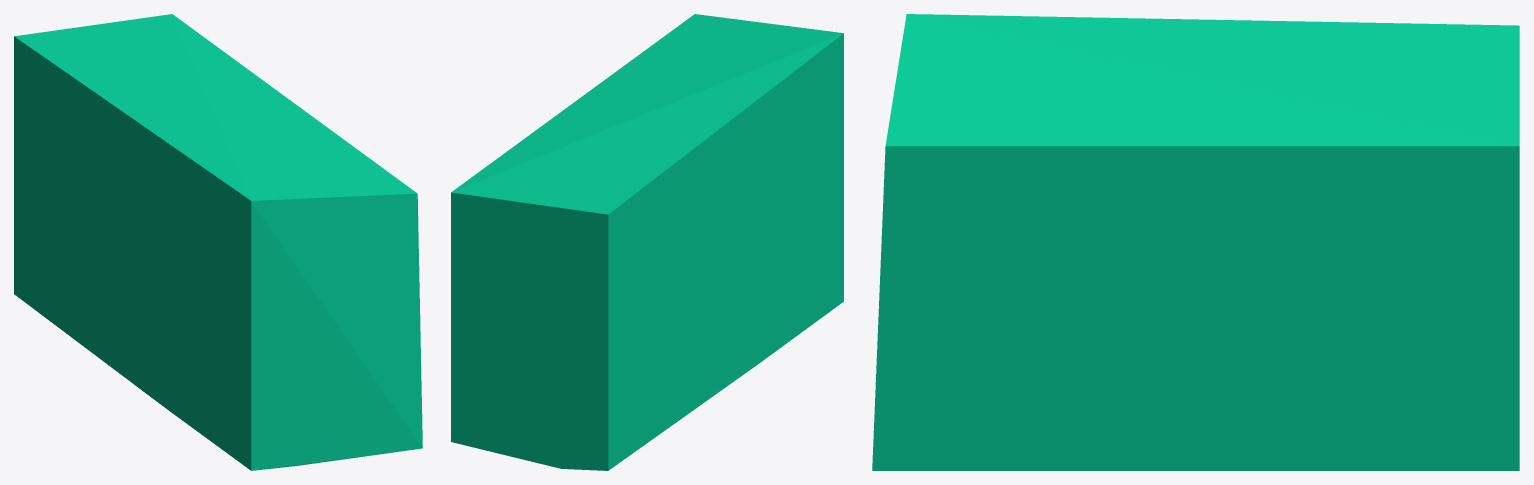
3 views of the same model, side by side, from view 1: azimuth 30°, elevation 25°; view 2: azimuth 150°, elevation 25°; view 3: azimuth 270°, elevation 25° (orthographic). The views are drawn at different scales.
Bounding box in the file's own units: 0.2541 × 0.424 × 0.6968.
